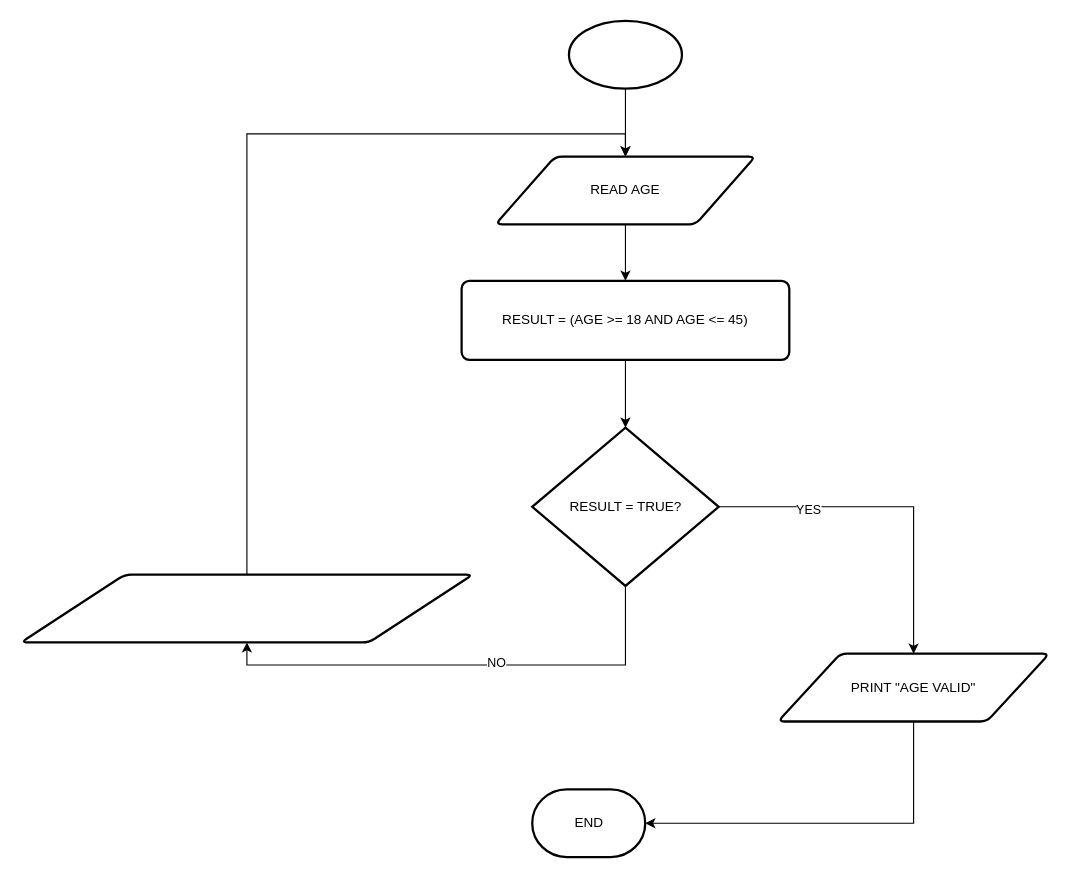
This 1069x877 diagram has some shape labels left out. Each missing label, with the centre of its shape:
PRINT "INVALID AGE , PLEASE ENTER AGE ": pixel 246 608
START: pixel 625 54
